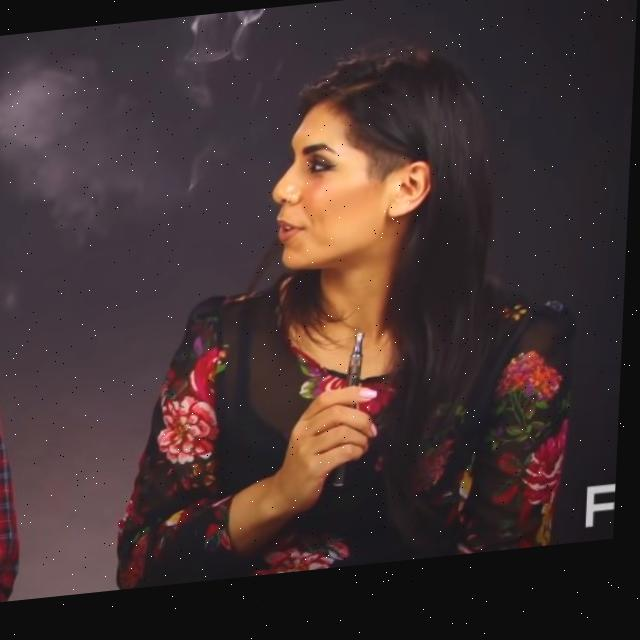vape: (335, 338, 368, 494)
